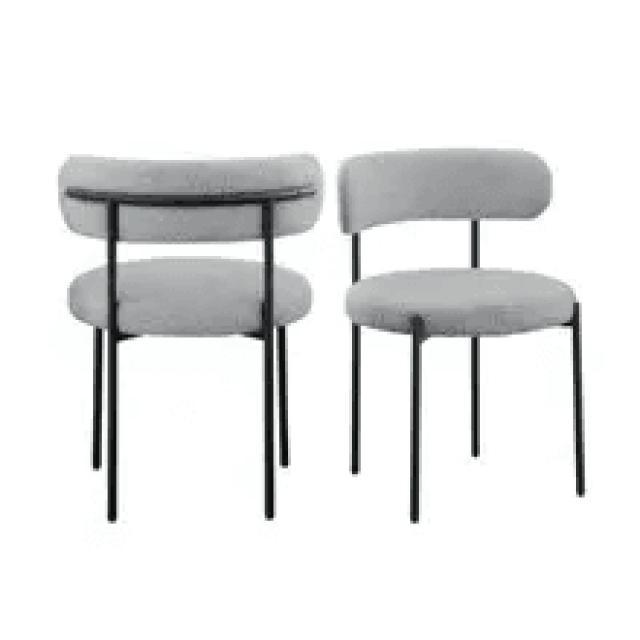chair: (52, 143, 330, 529), (333, 141, 592, 528), (61, 152, 324, 340), (332, 148, 582, 338)
